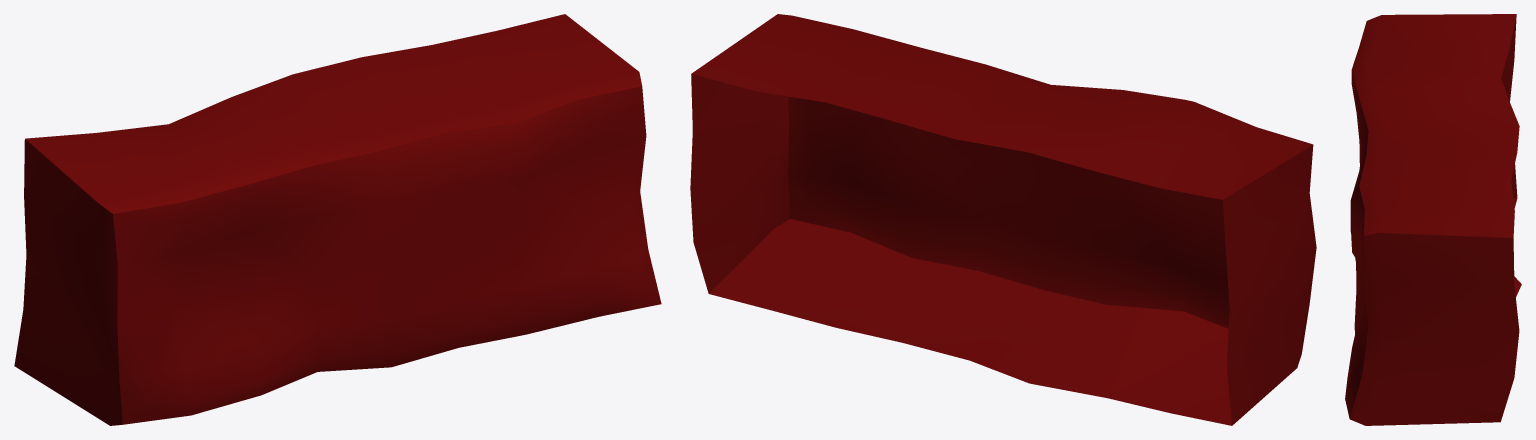
The model's file is SM_Wall00.FBX.
3 renders of one model, left to right at view 1: azimuth 30°, elevation 25°; view 2: azimuth 150°, elevation 25°; view 3: azimuth 270°, elevation 25°, orthographic. The views are drawn at different scales.
Parts seen in each view (by area): view 1: SM_Wall_024; view 2: SM_Wall_024; view 3: SM_Wall_024.
Boxes of the visible parts, x1=… form: SM_Wall_024: x1=14, y1=14, x2=661, y2=425; SM_Wall_024: x1=690, y1=14, x2=1316, y2=425; SM_Wall_024: x1=1345, y1=14, x2=1521, y2=425.
Size of what is drawn, in the model's own units: 51.39 by 17.02 by 21.39.
